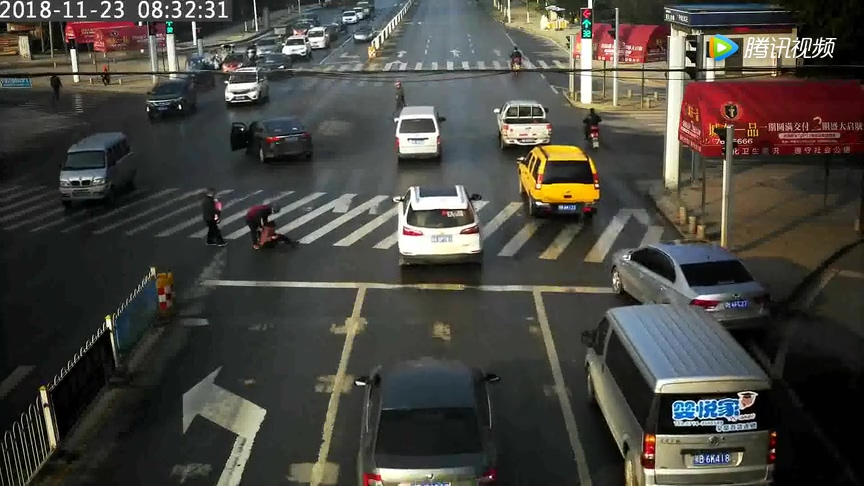car: (384, 174, 493, 276), (507, 140, 611, 223), (223, 110, 338, 183), (53, 121, 143, 207), (386, 103, 454, 170), (490, 91, 558, 151), (140, 72, 200, 127), (220, 67, 271, 107), (251, 47, 294, 78), (344, 23, 383, 49)
person: (194, 181, 236, 250), (236, 197, 284, 252), (252, 219, 310, 258), (570, 97, 603, 150), (390, 70, 410, 124), (49, 67, 67, 112), (506, 40, 525, 80)
